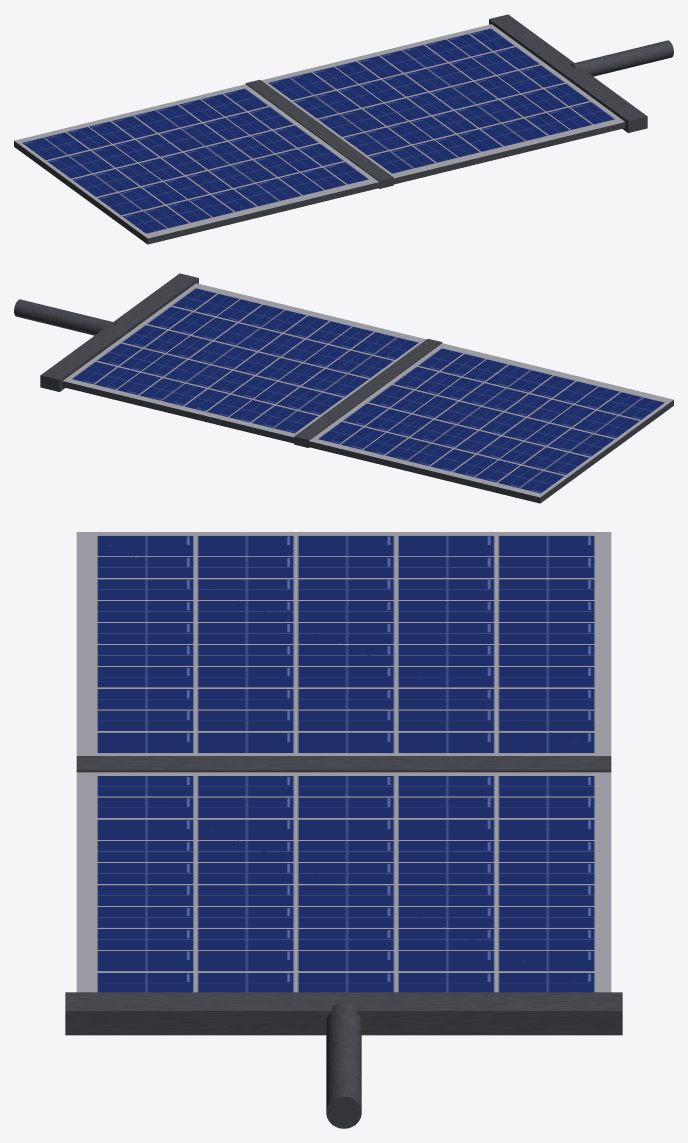
File: sat_panel_izq.obj
The picture shows the model from 3 angles, top to bottom: view 1: azimuth 30°, elevation 25°; view 2: azimuth 150°, elevation 25°; view 3: azimuth 270°, elevation 25°; orthographic projection. The views are drawn at different scales.
Parts seen in each view (by area): view 1: sat_panel_izq; view 2: sat_panel_izq; view 3: sat_panel_izq.
Boxes of the visible parts, <box> form: sat_panel_izq: <box>14,14,673,244</box>; sat_panel_izq: <box>14,273,673,503</box>; sat_panel_izq: <box>65,532,622,1128</box>.
Bounding box in the file's own units: 6.1 × 0.16 × 2.5.
